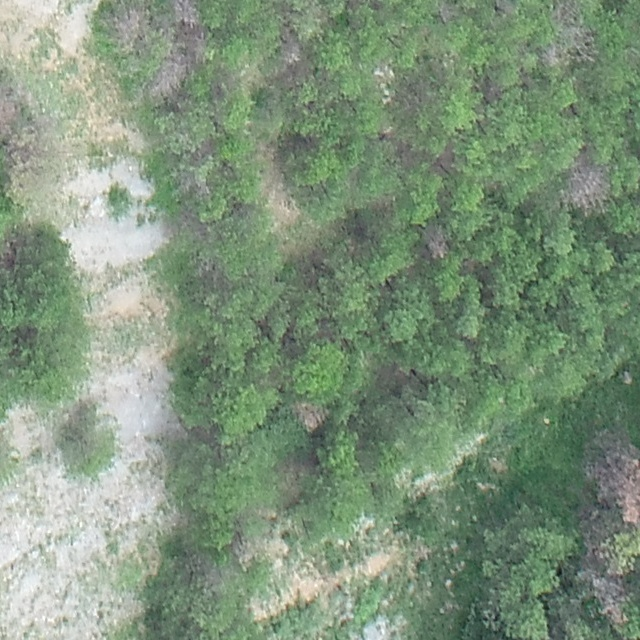unhealthy: (586, 432, 637, 523), (547, 14, 597, 69), (584, 573, 627, 630), (563, 160, 608, 214), (148, 52, 191, 99), (108, 5, 147, 48), (178, 26, 212, 62), (291, 400, 329, 432), (422, 224, 452, 260), (0, 82, 20, 133), (278, 29, 305, 66), (174, 172, 210, 199), (165, 0, 199, 25), (436, 1, 458, 23)
